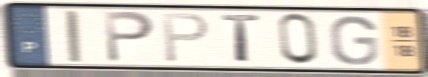0: (275, 11, 321, 68)
G: (328, 14, 381, 67)
I: (62, 8, 84, 64)
P: (102, 10, 157, 65), (161, 12, 211, 65)
T: (219, 12, 263, 65)
